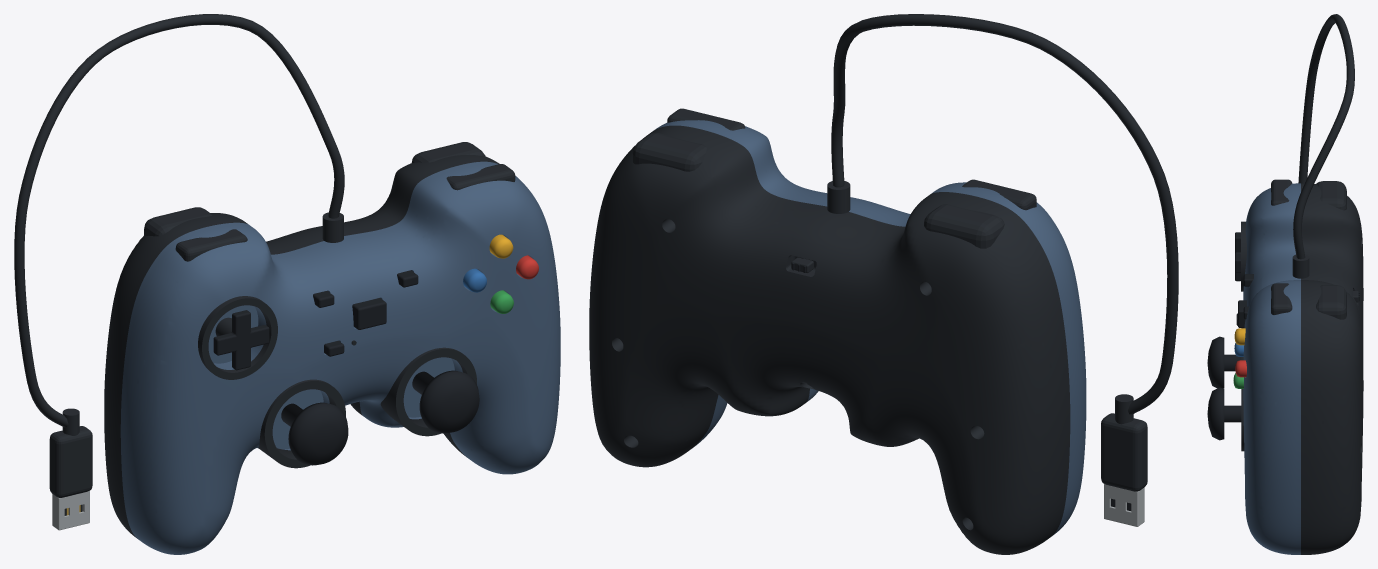
The picture shows the model from 3 angles, left to right: view 1: azimuth 30°, elevation 25°; view 2: azimuth 150°, elevation 25°; view 3: azimuth 270°, elevation 25°; orthographic projection. The views are drawn at different scales.
Visible parts, largest first — view 1: Unified closed two-tone controller shell, Complete fixed controller cable, Captured analog stick and domed cap 0.025, Captured analog stick and domed cap -0.025, Generic USB cable plug molding, Circular D pad surround, Complete analog stick socket 0.025, Complete analog stick socket -0.025, Unmarked raised cross D pad, Generic hollow USB A plug shell, Upper shoulder bumper -0.051, Rear curved trigger -0.051 (+3 smaller); view 2: Unified closed two-tone controller shell, Complete fixed controller cable, Generic USB cable plug molding, Rear curved trigger -0.051, Rear curved trigger 0.051, Generic hollow USB A plug shell, Upper shoulder bumper -0.051; view 3: Unified closed two-tone controller shell, Complete fixed controller cable, Captured analog stick and domed cap 0.025, Captured analog stick and domed cap -0.025, Rear curved trigger 0.051, Rear curved trigger -0.051, Upper shoulder bumper 0.051, Upper shoulder bumper -0.051, Captured cable exit strain relief, Circular D pad surround, Unmarked raised cross D pad.
Boxes of the visible parts, bbox=[...] form: Unified closed two-tone controller shell: bbox=[104, 154, 560, 554]; Complete fixed controller cable: bbox=[14, 14, 344, 427]; Captured analog stick and domed cap 0.025: bbox=[412, 370, 479, 433]; Captured analog stick and domed cap -0.025: bbox=[281, 402, 348, 465]; Generic USB cable plug molding: bbox=[49, 426, 92, 497]; Circular D pad surround: bbox=[198, 296, 277, 379]; Complete analog stick socket 0.025: bbox=[380, 347, 476, 436]; Complete analog stick socket -0.025: bbox=[258, 379, 345, 468]; Unmarked raised cross D pad: bbox=[213, 310, 269, 370]; Generic hollow USB A plug shell: bbox=[52, 490, 89, 530]; Upper shoulder bumper -0.051: bbox=[175, 229, 247, 261]; Rear curved trigger -0.051: bbox=[144, 207, 212, 236]; Unified closed two-tone controller shell: bbox=[589, 120, 1086, 554]; Complete fixed controller cable: bbox=[831, 14, 1178, 414]; Generic USB cable plug molding: bbox=[1101, 413, 1147, 491]; Rear curved trigger -0.051: bbox=[924, 204, 1004, 248]; Rear curved trigger 0.051: bbox=[632, 133, 706, 171]; Generic hollow USB A plug shell: bbox=[1104, 484, 1144, 526]; Upper shoulder bumper -0.051: bbox=[962, 179, 1036, 210]; Unified closed two-tone controller shell: bbox=[1243, 183, 1363, 554]; Complete fixed controller cable: bbox=[1293, 14, 1354, 259]; Captured analog stick and domed cap 0.025: bbox=[1207, 387, 1241, 440]; Captured analog stick and domed cap -0.025: bbox=[1207, 336, 1241, 388]; Rear curved trigger 0.051: bbox=[1316, 285, 1346, 319]; Rear curved trigger -0.051: bbox=[1316, 181, 1346, 210]; Upper shoulder bumper 0.051: bbox=[1271, 283, 1292, 314]; Upper shoulder bumper -0.051: bbox=[1271, 179, 1292, 205]; Captured cable exit strain relief: bbox=[1292, 254, 1309, 278]; Circular D pad surround: bbox=[1241, 221, 1246, 291]; Unmarked raised cross D pad: bbox=[1235, 232, 1240, 281].
Size of the model in its own units: 0.2011 by 0.1815 by 0.0647.
